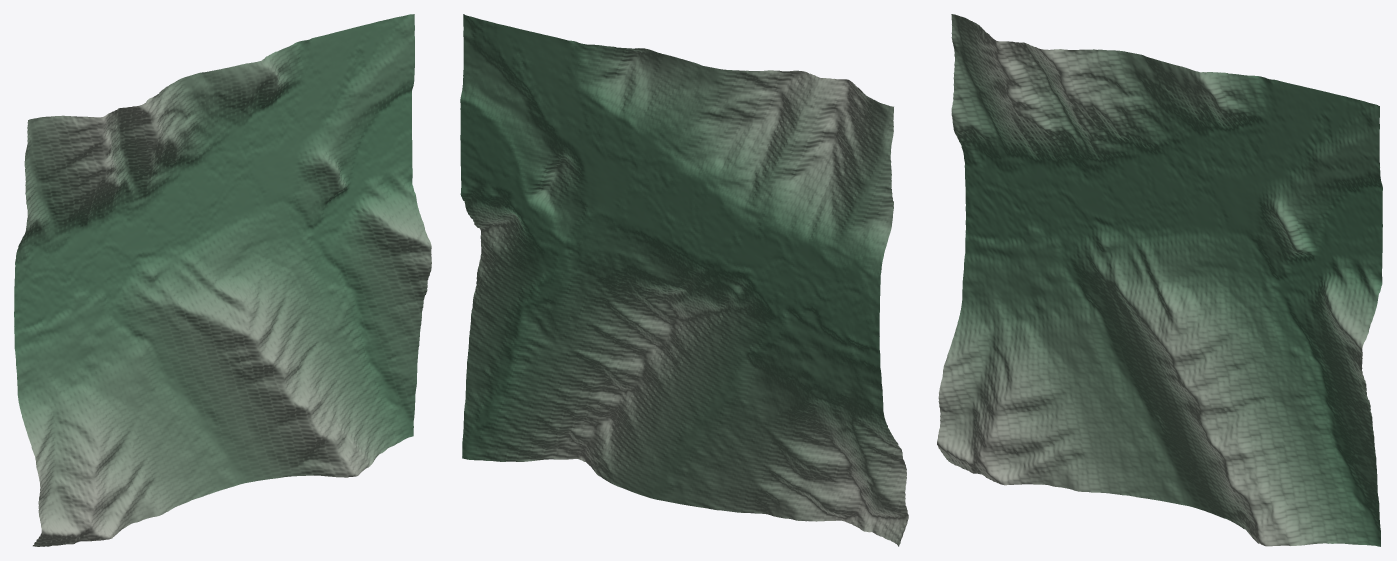
File: core-terrain.glb
3 views of the same model, side by side, from view 1: azimuth 30°, elevation 25°; view 2: azimuth 150°, elevation 25°; view 3: azimuth 330°, elevation 25° (orthographic). The views are drawn at different scales.
Parts seen in each view (by area): view 1: Measured terrain with explicit no-data fill; view 2: Measured terrain with explicit no-data fill; view 3: Measured terrain with explicit no-data fill.
Boxes of the visible parts, box(x1,y1,x2,y2) form: Measured terrain with explicit no-data fill: box(14, 14, 431, 546); Measured terrain with explicit no-data fill: box(460, 14, 908, 546); Measured terrain with explicit no-data fill: box(937, 14, 1382, 546).
Bounding box in the file's own units: 8730 × 8850 × 1224.
